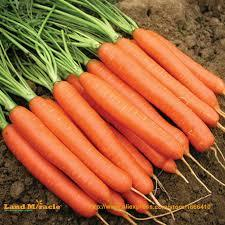Organic: (0, 1, 225, 225)
